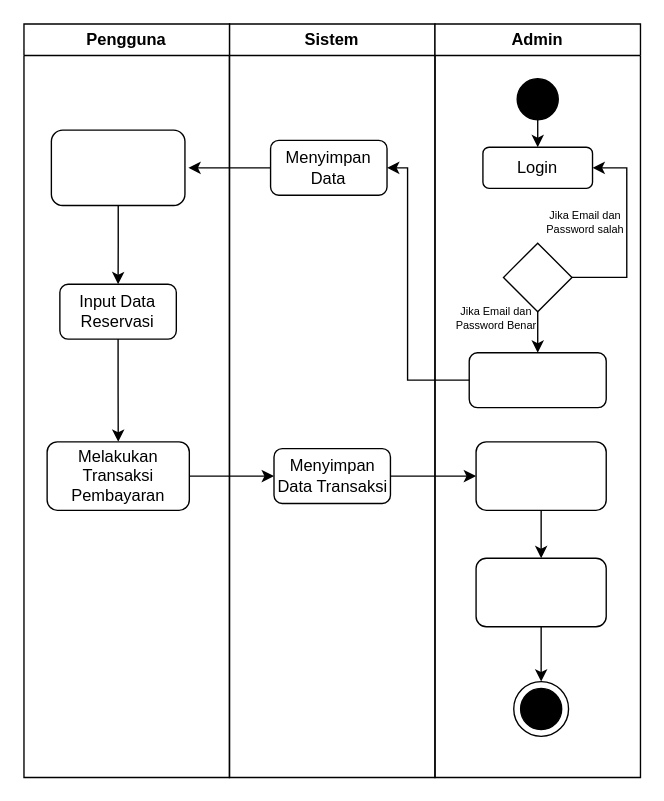
The diagram is 664 pixels wide and 801 high, and some of its shapes have lost their labels. The shapes that lost their labels are listed below. From the top down, each one's centre as x and y in pixels, then its label:
At (117,167): "Melihat Layanan Grooming & Pet Hotel".
At (537,379): "Input Layanan Grroming".
At (540,475): "Admin Menyetujui Transaksi".
At (540,592): "Menampilkan Riwayat Transaksi".
